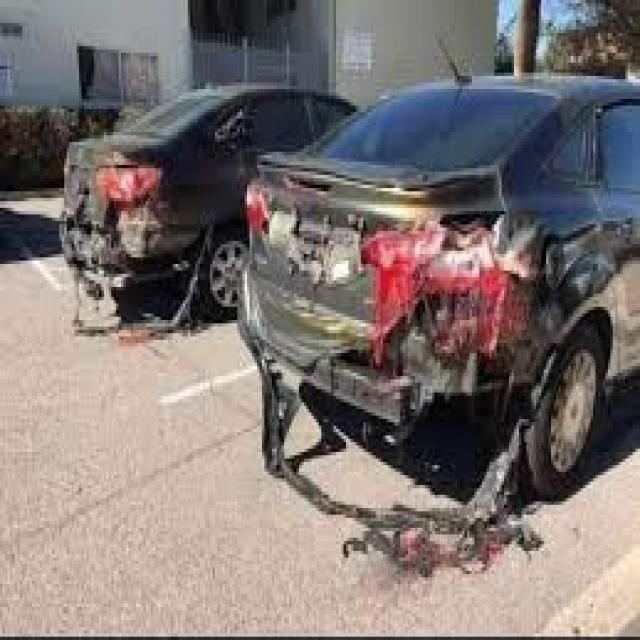damaged-tail-light: (368, 219, 494, 282), (96, 165, 164, 207)
